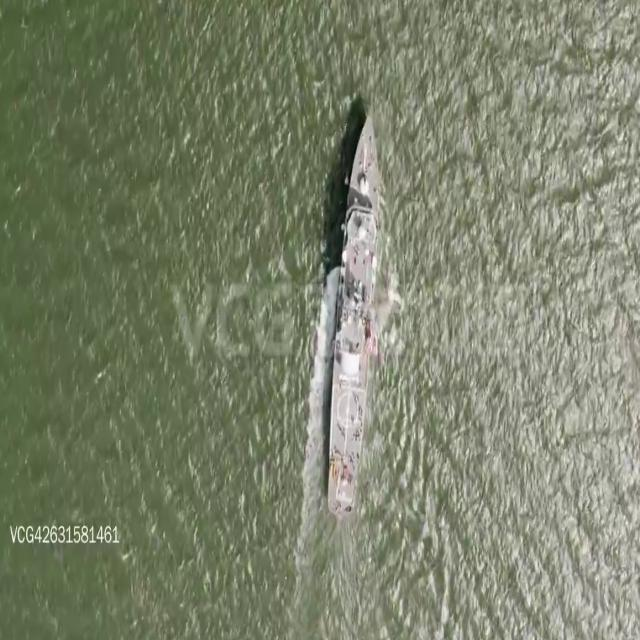navalvessels: (325, 110, 380, 510)
